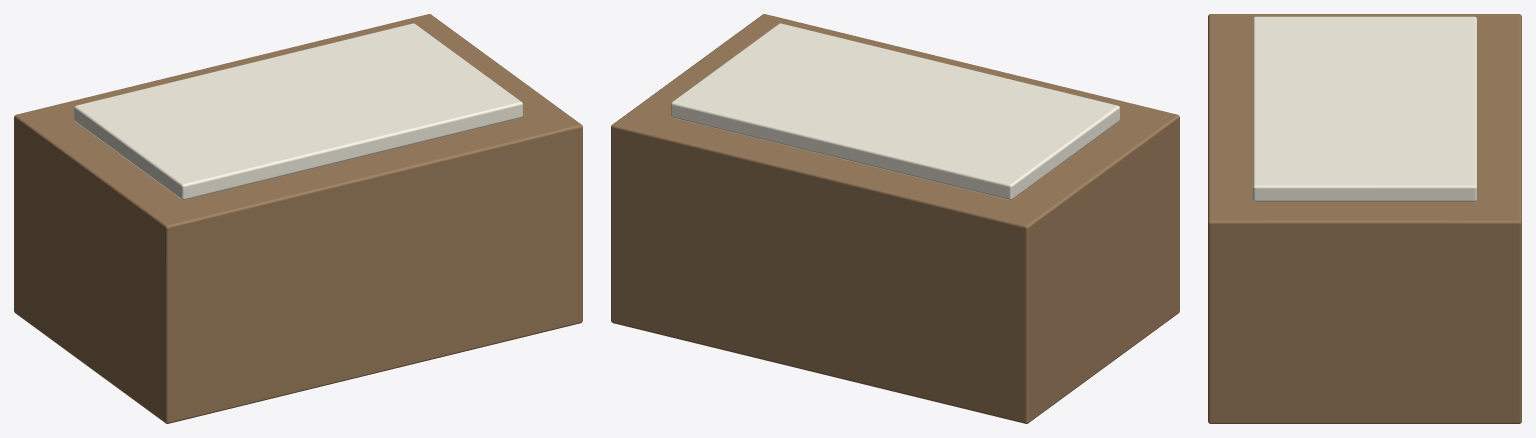
The model's file is marquetry-and-veneer-inlay-workshop-veneer-inspection--239b2a15__39087.glb.
3 views of the same model, side by side, from view 1: azimuth 30°, elevation 25°; view 2: azimuth 150°, elevation 25°; view 3: azimuth 270°, elevation 25° (orthographic). The views are drawn at different scales.
Parts seen in each view (by area): view 1: veneer-inspection-light-table; view 2: veneer-inspection-light-table; view 3: veneer-inspection-light-table.
Boxes of the visible parts, bbox=[...] form: veneer-inspection-light-table: bbox=[14, 14, 582, 423]; veneer-inspection-light-table: bbox=[611, 14, 1179, 423]; veneer-inspection-light-table: bbox=[1208, 14, 1521, 423].
Size of the model in its own units: 1.1 by 0.54 by 0.6999.
